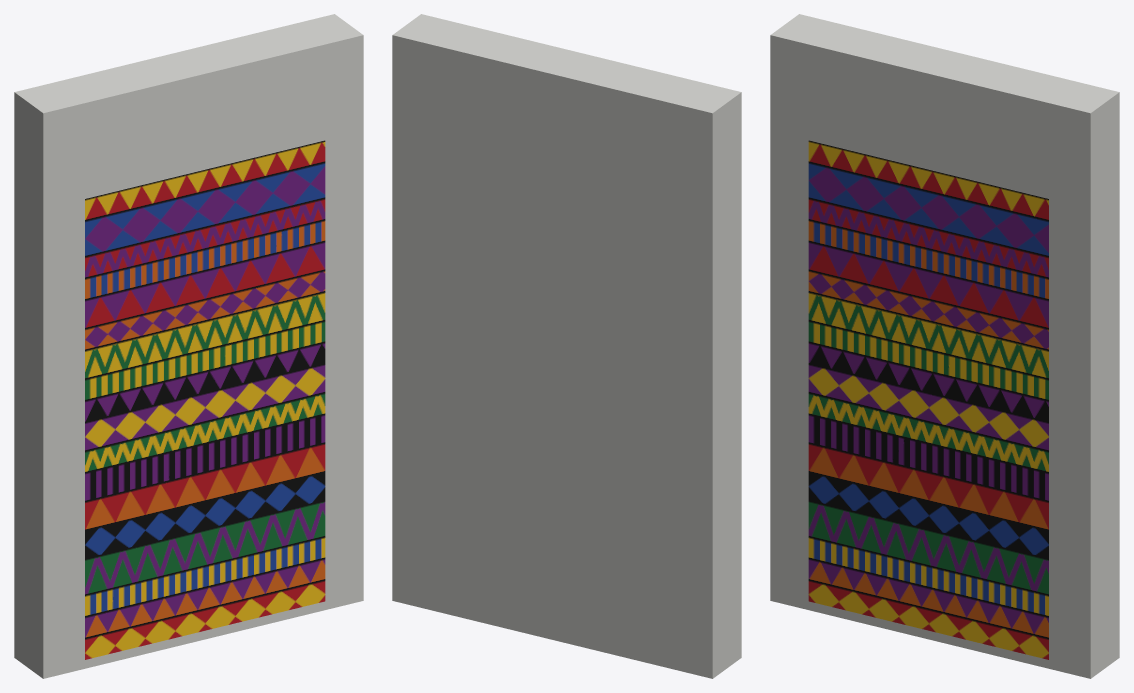
File: SM_QattDoor.fbx
3 renders of one model, left to right at view 1: azimuth 30°, elevation 25°; view 2: azimuth 150°, elevation 25°; view 3: azimuth 330°, elevation 25°, orthographic.
Visible parts, largest first — view 1: SM_QattDoor; view 2: SM_QattDoor; view 3: SM_QattDoor.
Part boxes in pixels (left/top/right/bottom): SM_QattDoor: left=14, top=14, right=363, bottom=678; SM_QattDoor: left=392, top=14, right=741, bottom=678; SM_QattDoor: left=770, top=14, right=1119, bottom=678.
Bounding box in the file's own units: 160 × 270 × 26.5.
